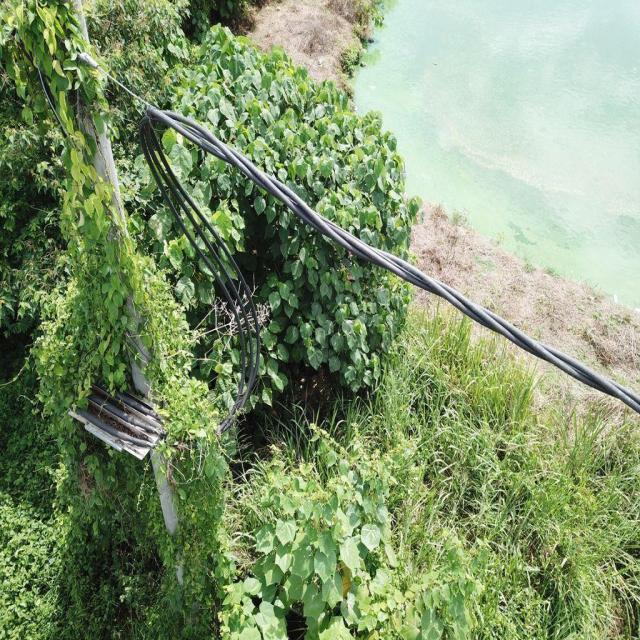critical vegetation: (26, 25, 182, 522)
